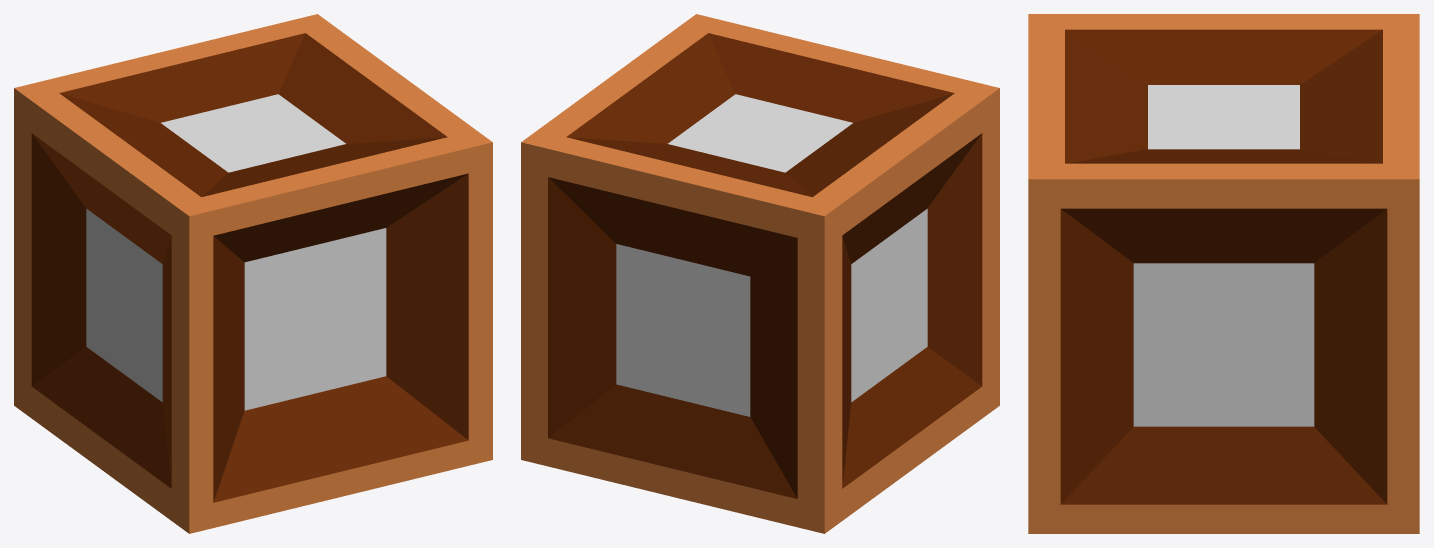
3 views of the same model, side by side, from view 1: azimuth 30°, elevation 25°; view 2: azimuth 150°, elevation 25°; view 3: azimuth 270°, elevation 25° (orthographic). The views are drawn at different scales.
Visible parts, largest first — view 1: Cube; view 2: Cube; view 3: Cube.
Boxes of the visible parts, box(x1,y1,x2,y2) form: Cube: box(14, 14, 492, 533); Cube: box(521, 14, 999, 533); Cube: box(1028, 14, 1419, 533).
Size of the model in its own units: 200 by 200 by 200.
